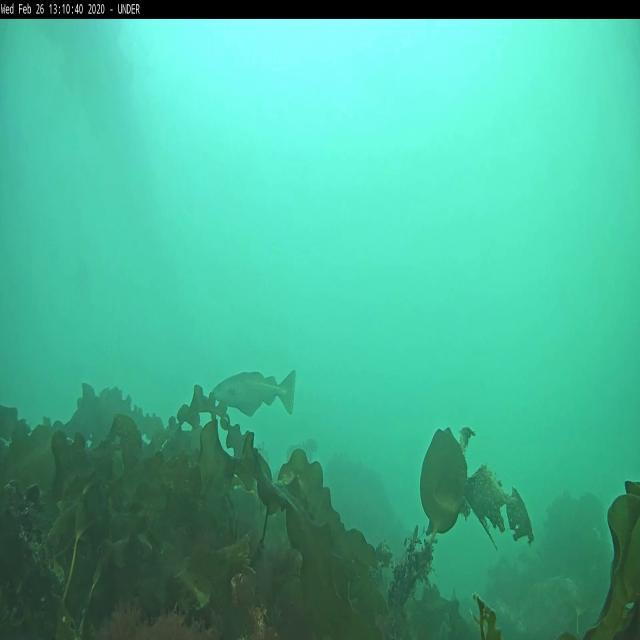fish: (210, 370, 296, 422)
